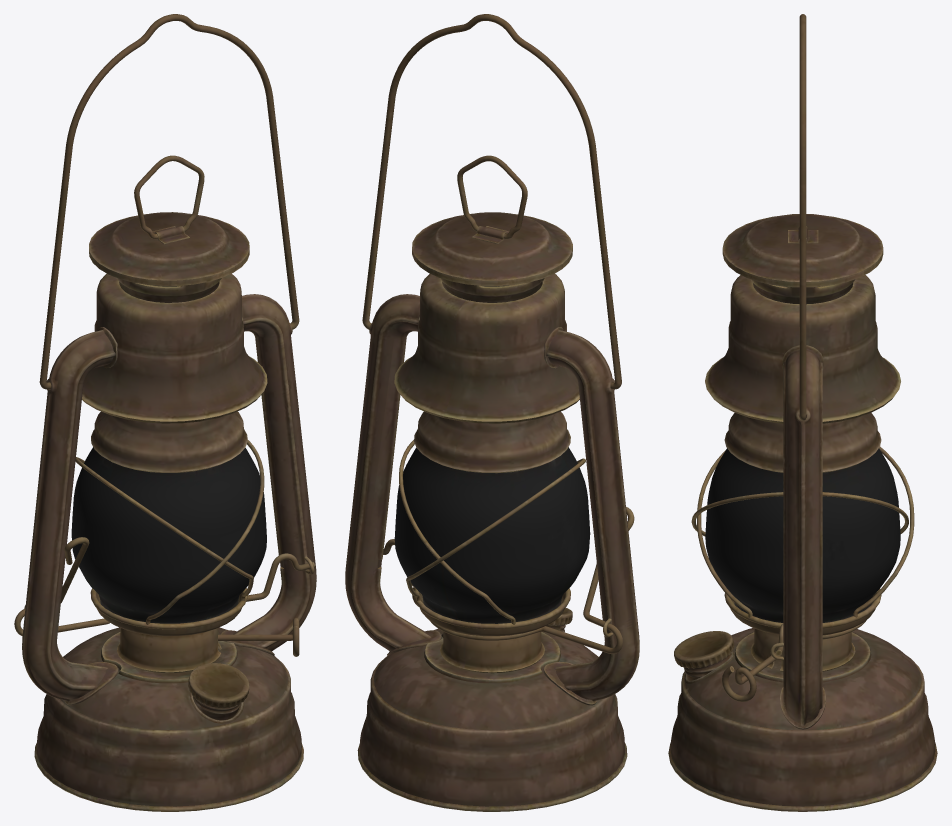
Rendered from Lantern_01.glb.
3 views of the same model, side by side, from view 1: azimuth 30°, elevation 25°; view 2: azimuth 150°, elevation 25°; view 3: azimuth 270°, elevation 25° (orthographic).
Parts seen in each view (by area): view 1: Lantern_01, Lantern_01_glass; view 2: Lantern_01, Lantern_01_glass; view 3: Lantern_01, Lantern_01_glass.
Part boxes in pixels (<box>): Lantern_01: <box>14,14,316,811</box>; Lantern_01_glass: <box>71,447,266,623</box>; Lantern_01: <box>345,14,639,811</box>; Lantern_01_glass: <box>394,447,590,623</box>; Lantern_01: <box>668,14,937,811</box>; Lantern_01_glass: <box>705,448,900,622</box>.
Bounding box in the file's own units: 0.1221 × 0.2942 × 0.0972.
2 materials, 2 textured.
